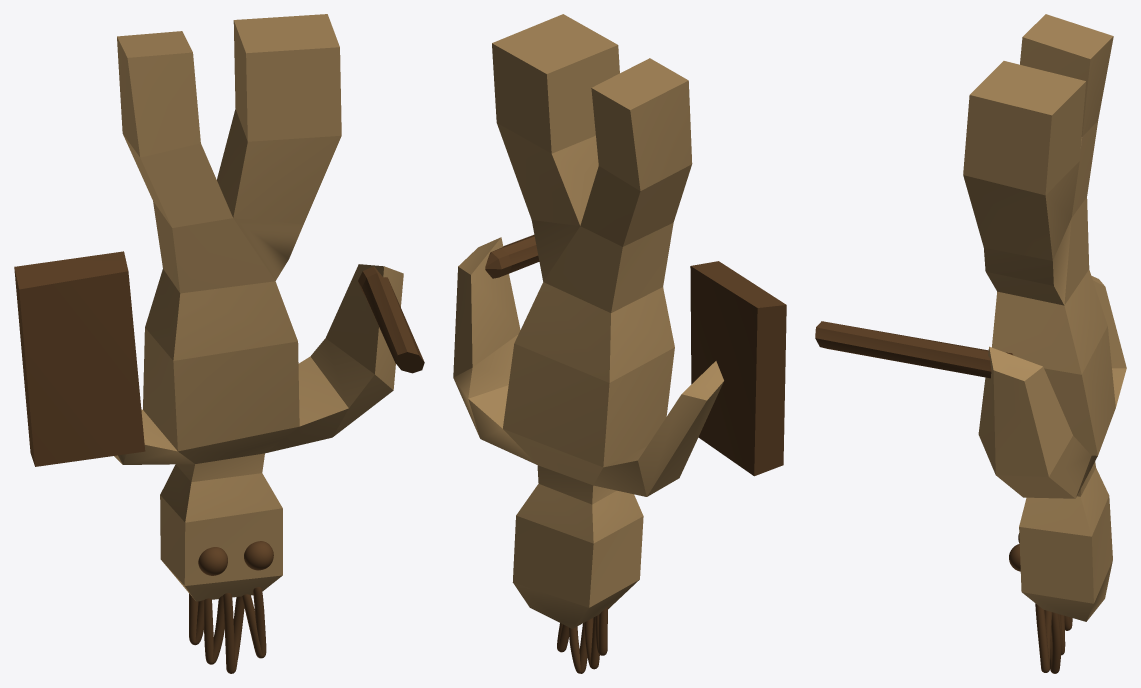
The model's file is soldier.obj.
3 renders of one model, left to right at view 1: azimuth 30°, elevation 25°; view 2: azimuth 150°, elevation 25°; view 3: azimuth 270°, elevation 25°, orthographic. The views are drawn at different scales.
Visible parts, largest first — view 1: s.0075, s.0082, s.0079, s.0086, p.0077, p.0078; view 2: s.0075, s.0082, s.0079, s.0086; view 3: s.0075, s.0086, s.0079.
Boxes of the visible parts, bbox=[...] form: s.0075: bbox=[114, 14, 403, 601]; s.0082: bbox=[14, 251, 145, 466]; s.0079: bbox=[189, 587, 266, 673]; s.0086: bbox=[358, 266, 424, 373]; p.0077: bbox=[244, 541, 273, 570]; p.0078: bbox=[198, 547, 227, 575]; s.0075: bbox=[453, 14, 723, 628]; s.0082: bbox=[690, 261, 786, 476]; s.0079: bbox=[557, 607, 608, 673]; s.0086: bbox=[485, 235, 539, 278]; s.0075: bbox=[963, 14, 1126, 621]; s.0086: bbox=[815, 321, 1013, 378]; s.0079: bbox=[1035, 603, 1072, 673].
Size of the model in its own units: 3.57 by 6.15 by 2.85.
